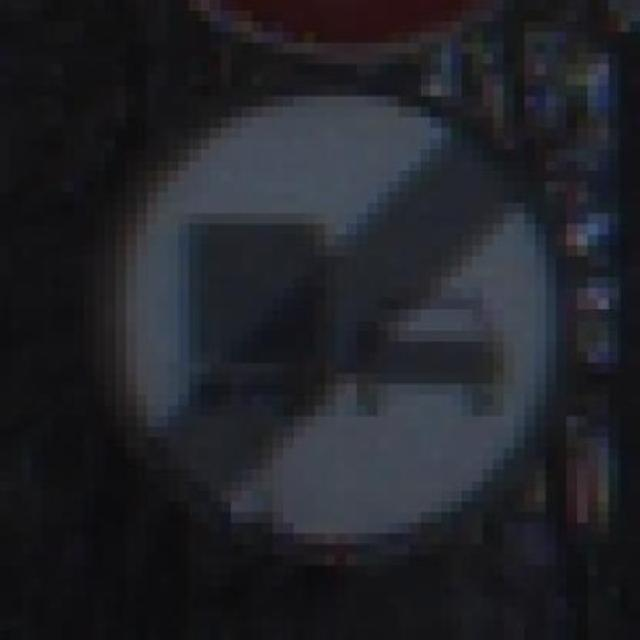Overtaking by trucks is prohibited: (21, 96, 608, 576)
